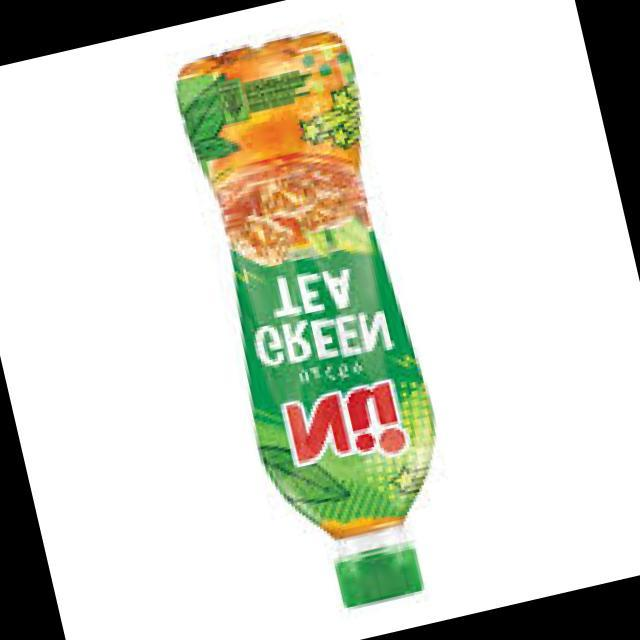good: (168, 21, 528, 633)
